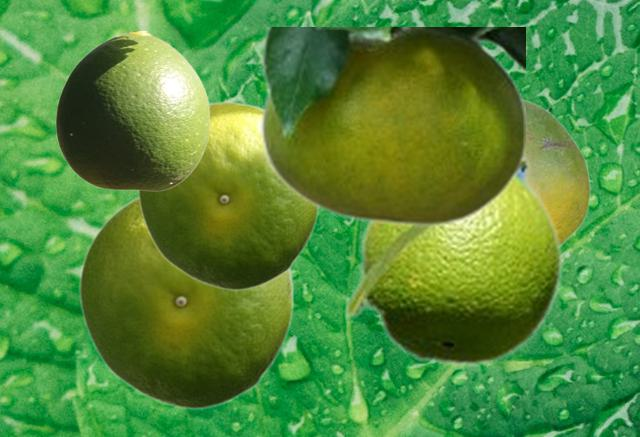dalandan: (260, 27, 524, 226), (342, 152, 564, 367), (78, 196, 293, 409), (137, 100, 319, 290), (55, 31, 209, 190), (525, 99, 590, 244)
